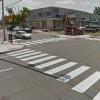Crosswalk: (10, 39, 100, 94)
